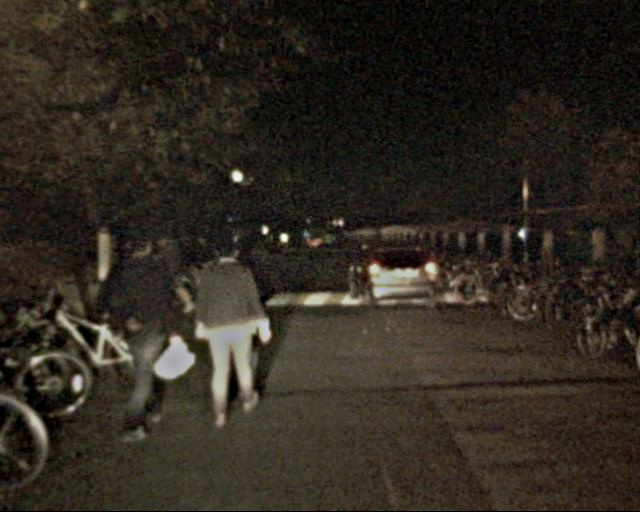person: (97, 224, 182, 437), (193, 237, 267, 423)
